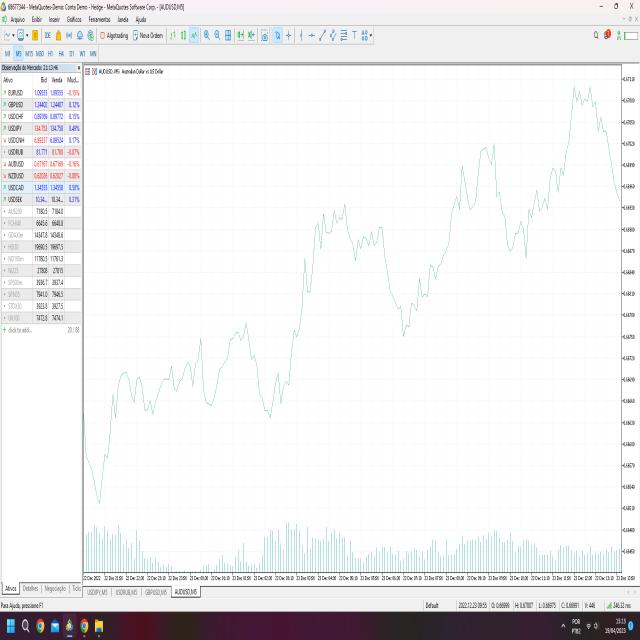topo_duplo: (439, 135, 517, 286)
